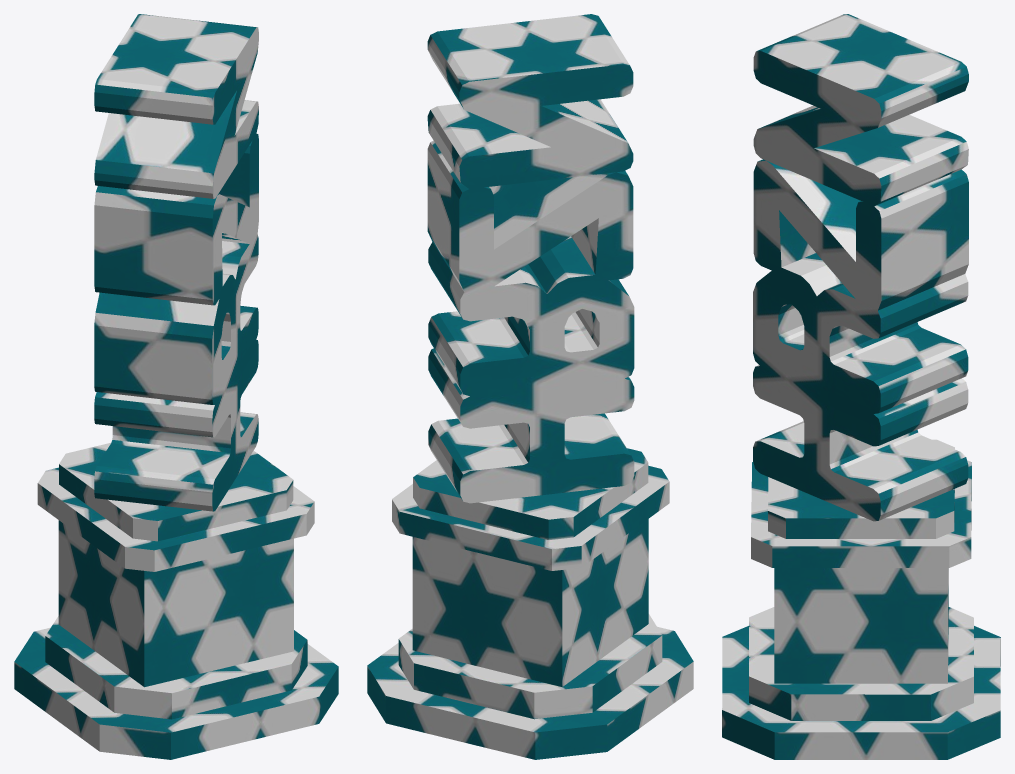
Rendered from horizon_statue_flat_shaded.obj.
3 views of the same model, side by side, from view 1: azimuth 30°, elevation 25°; view 2: azimuth 150°, elevation 25°; view 3: azimuth 270°, elevation 25° (orthographic).
Parts seen in each view (by area): view 1: statue_low_poly_Text; view 2: statue_low_poly_Text; view 3: statue_low_poly_Text.
Part boxes in pixels (box(x1,y1,x2,y2)): statue_low_poly_Text: box(14, 14, 338, 759); statue_low_poly_Text: box(367, 14, 693, 759); statue_low_poly_Text: box(722, 14, 1000, 759).
Size of the model in its own units: 1.13 by 2.89 by 1.13.
